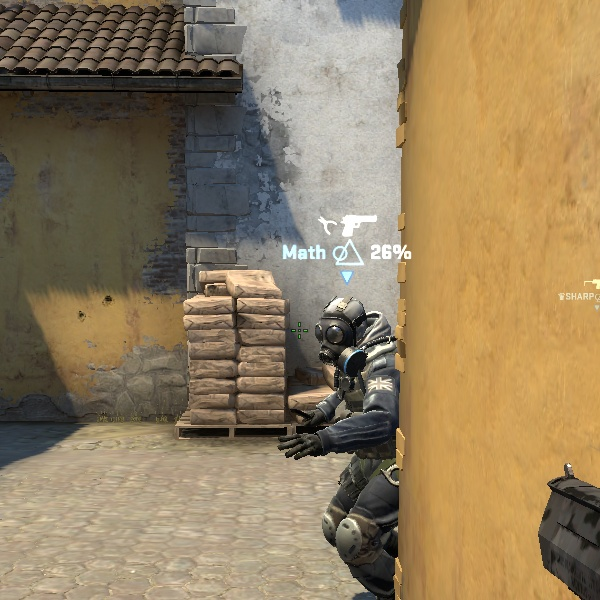ct_head: (303, 294, 386, 383)
